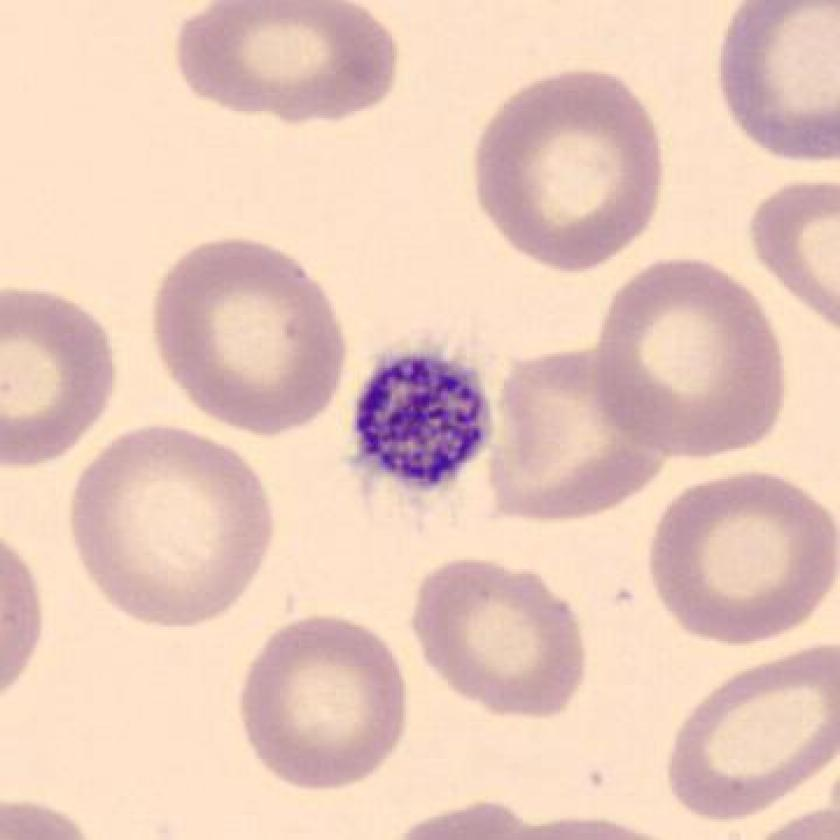platelets: (347, 343, 501, 494)
